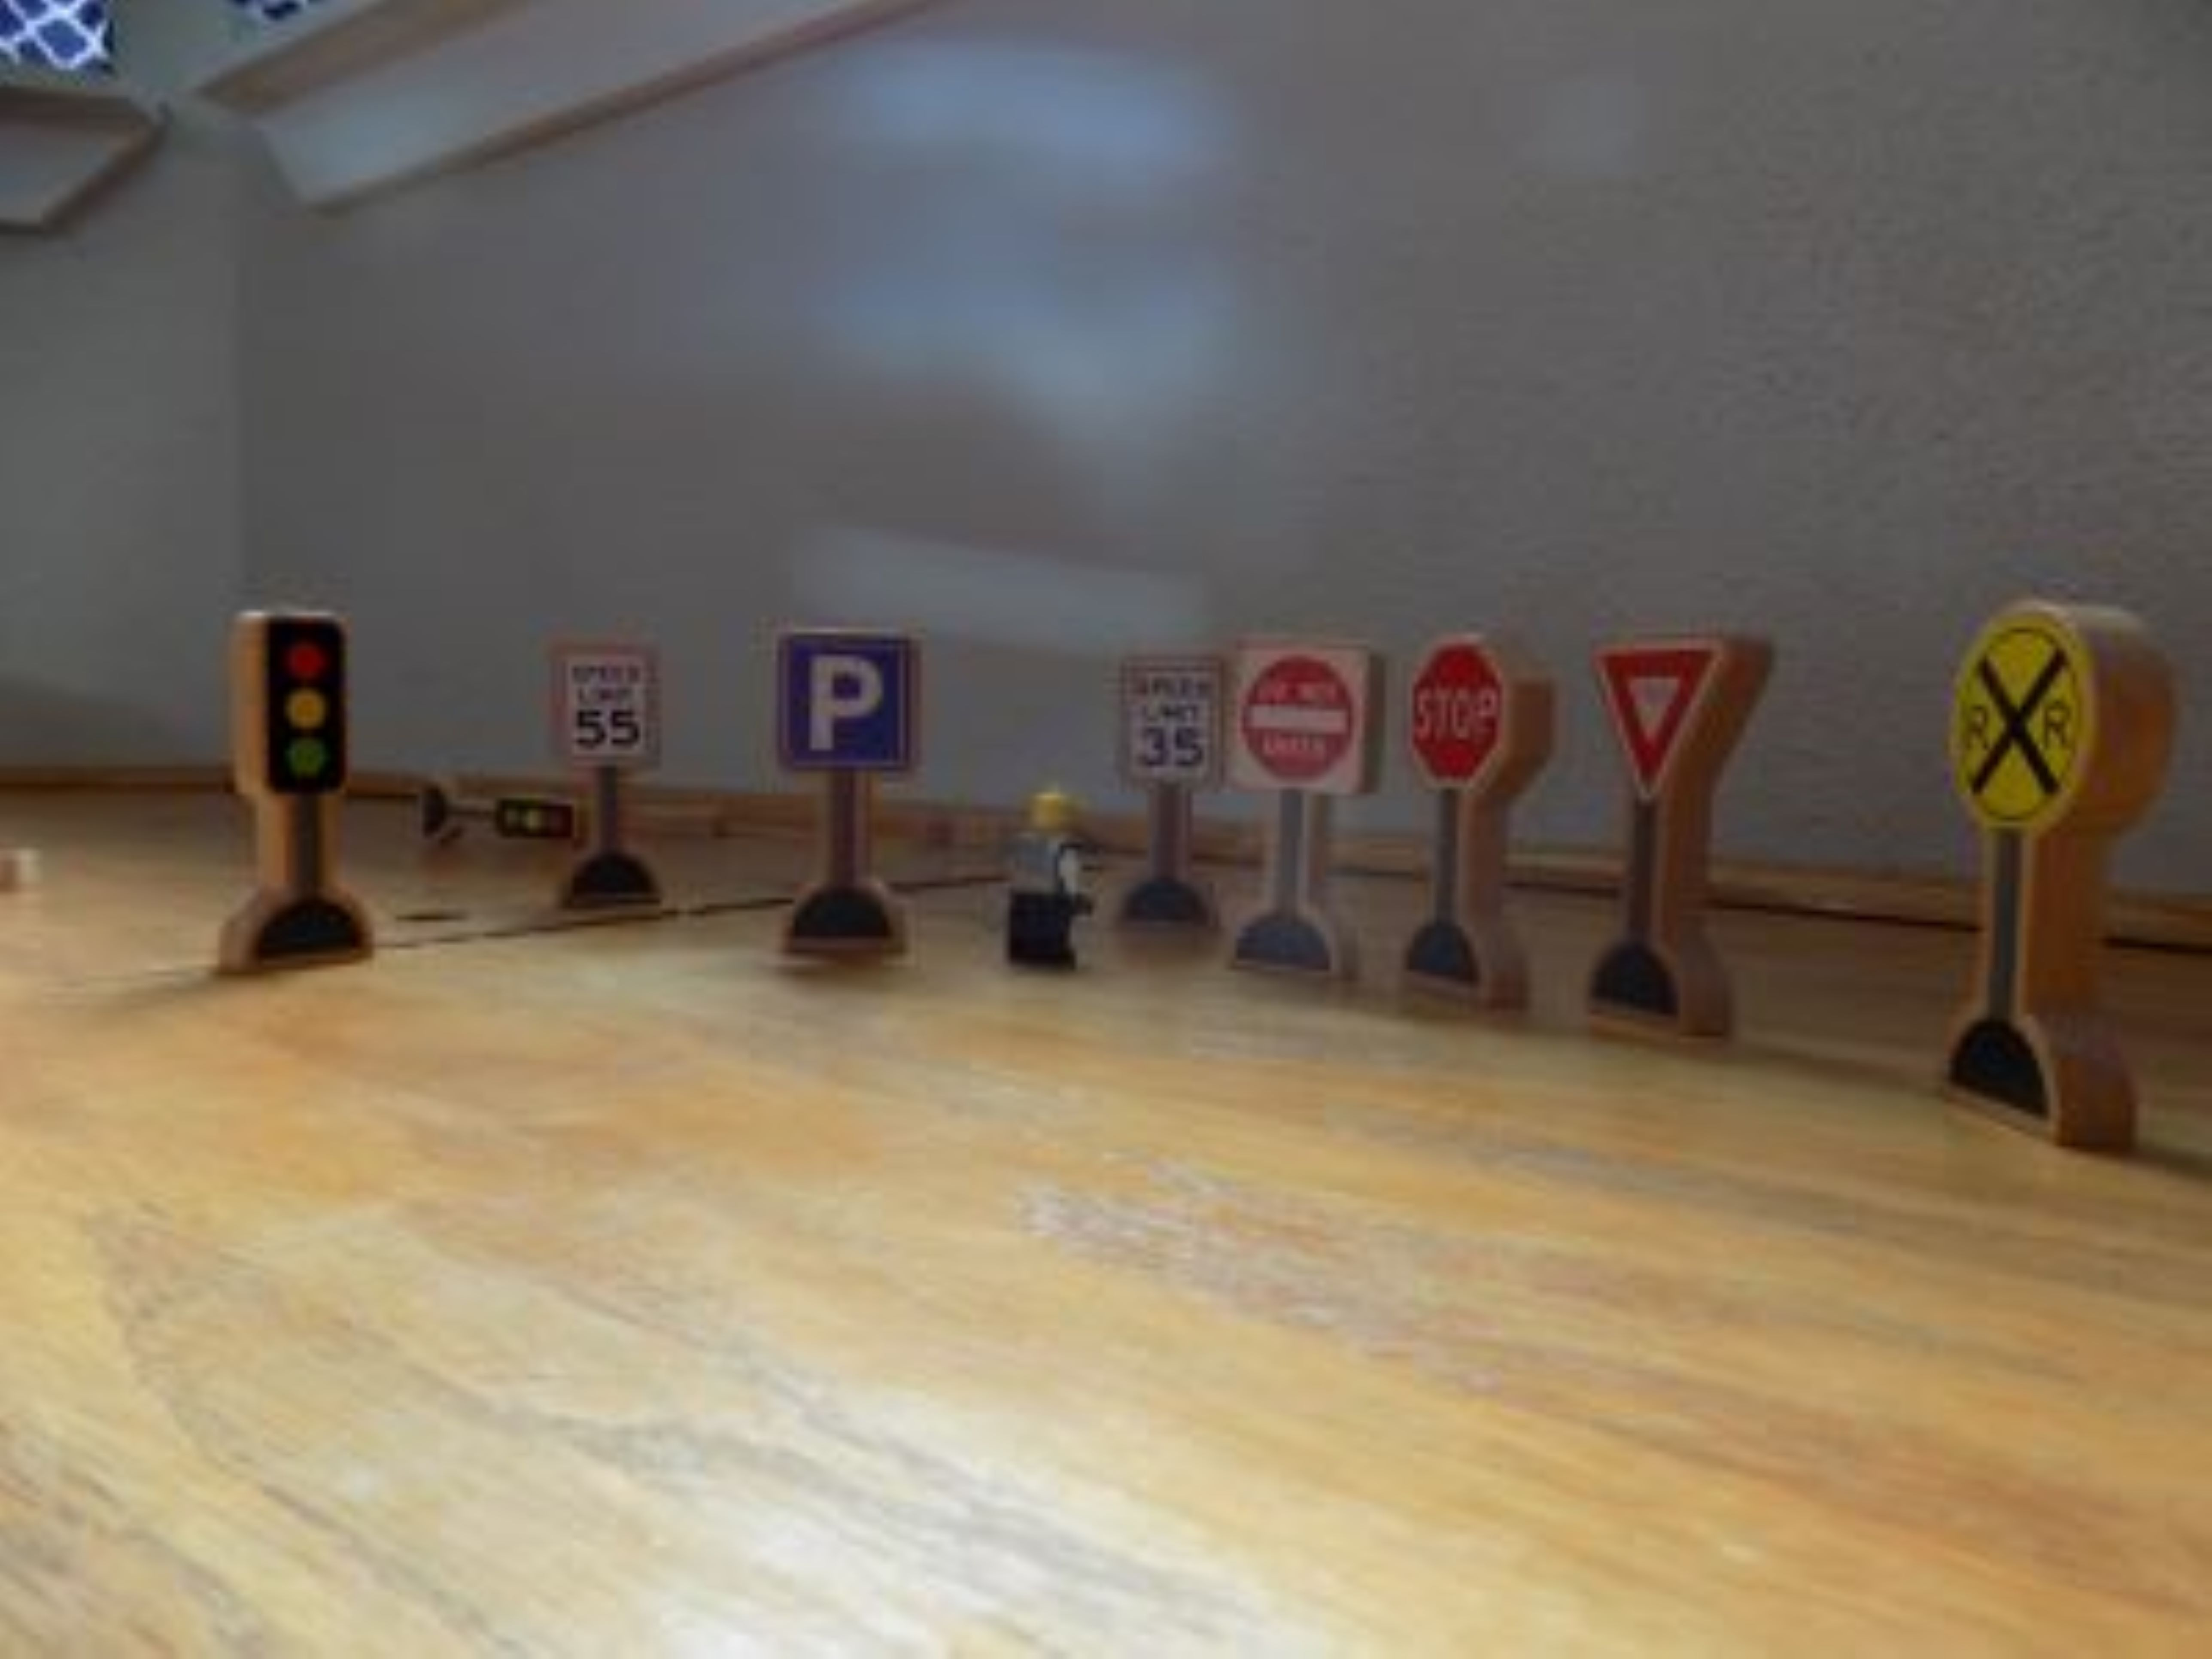Do Not Enter: (1237, 642, 1376, 805)
Parking Sign: (782, 632, 920, 778)
Person: (997, 781, 1103, 969)
Rail Road Sign: (1945, 608, 2103, 854)
Red Traffic Light: (228, 606, 363, 826)
Speed Limit 35: (1124, 653, 1224, 802)
Speed Limit 55: (549, 647, 662, 788)
Stop Sign: (1407, 635, 1548, 814)
Yield Sign: (1595, 632, 1742, 799)
